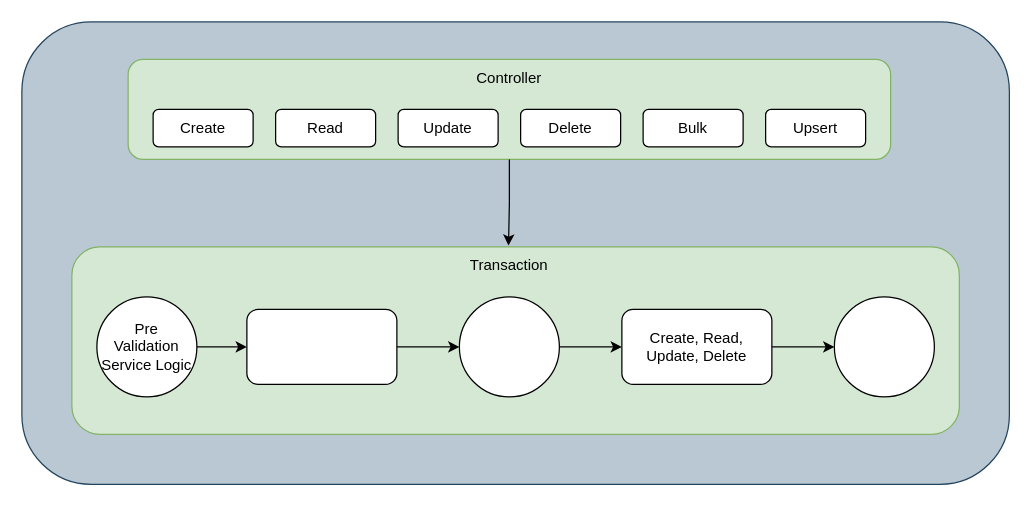
The diagram is 1031 pixels wide and 506 high, and some of its shapes have lost their labels. Each missing label, with the centre of its shape:
"Check Security Permissions" belongs at (321,346).
"Post Operation Service Logic" belongs at (883,346).
"Pre Operation Service Logic" belongs at (508,346).
